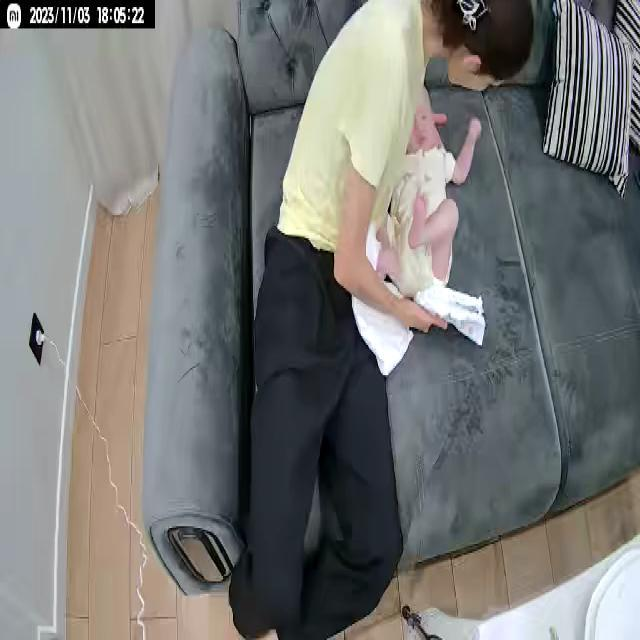baby: (374, 76, 487, 315)
